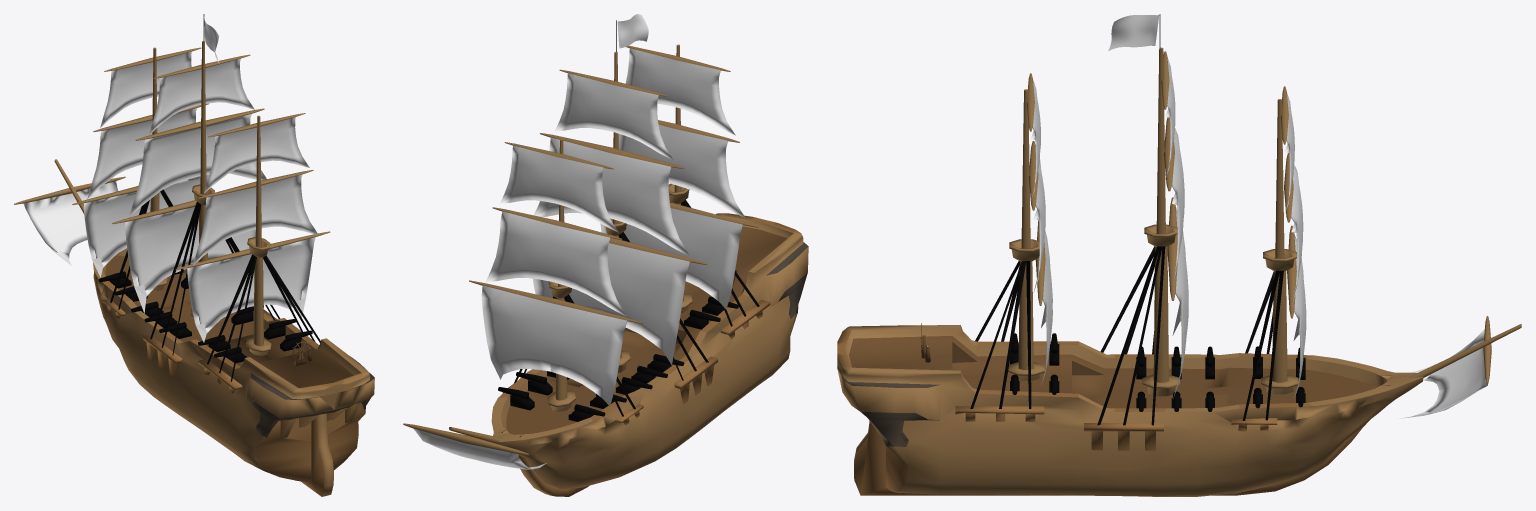
File: Warship.FBX
3 views of the same model, side by side, from view 1: azimuth 30°, elevation 25°; view 2: azimuth 150°, elevation 25°; view 3: azimuth 270°, elevation 25° (orthographic). The views are drawn at different scales.
Visible parts, largest first — view 1: AmericanWarShip_lwo; view 2: AmericanWarShip_lwo; view 3: AmericanWarShip_lwo.
Part boxes in pixels (left/top/right/bottom): AmericanWarShip_lwo: left=14, top=14, right=374, bottom=496; AmericanWarShip_lwo: left=403, top=14, right=808, bottom=496; AmericanWarShip_lwo: left=837, top=14, right=1521, bottom=496.
Size of the model in its own units: 70.77 by 200 by 154.
